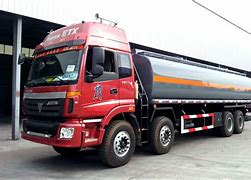oil truck: (16, 17, 250, 166)
